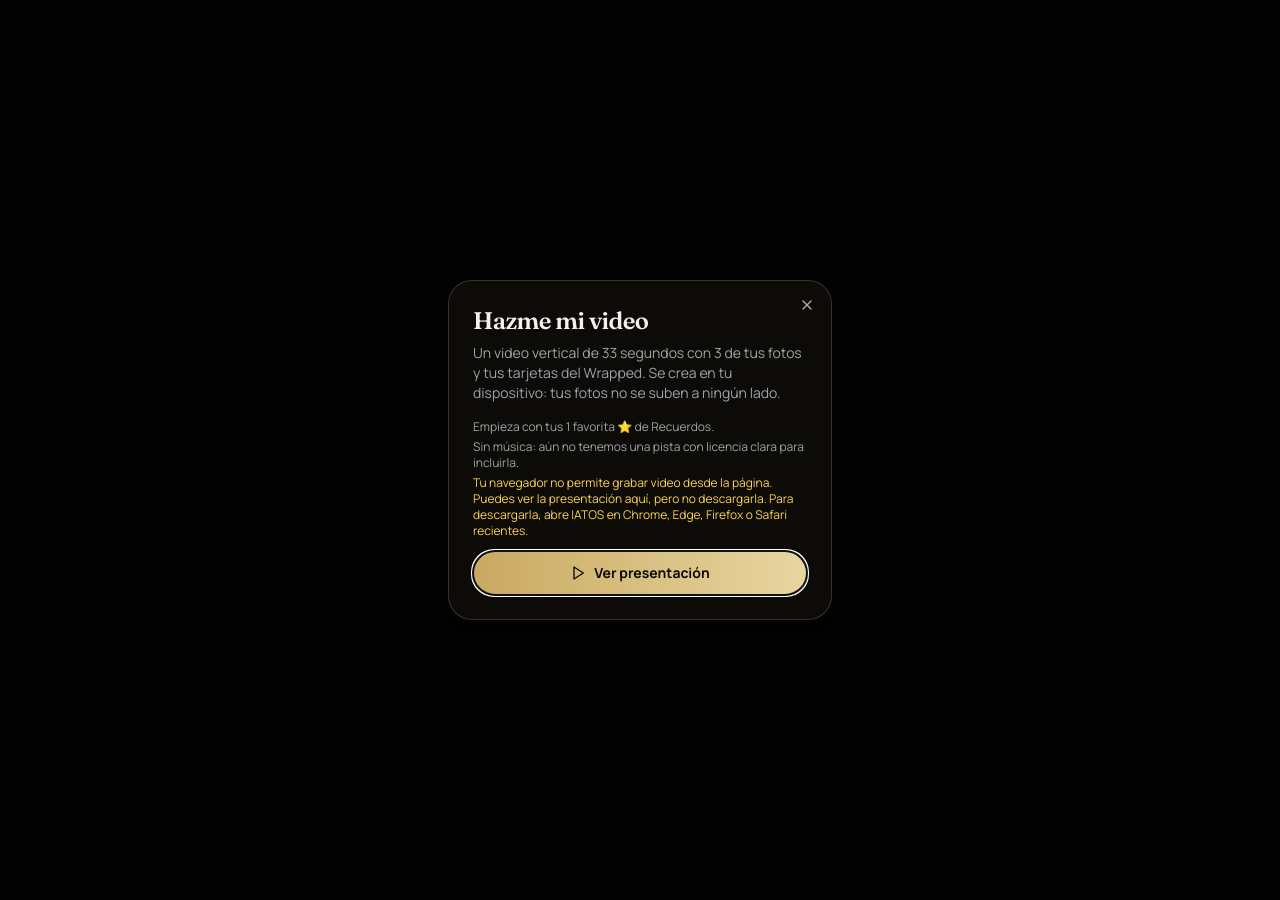
it: diálogo «Hazme mi video» › sin soporte de grabación: explica por qué y ofrece la presentación a pantalla completa
The image size is (1280, 900).
Expected: the list item "no permite grabar video desde la página. Puedes ver la presentación aquí, pero no descargarla" is shown, [473,475,807,539]
Expected: the list item "Sin música" is shown, [473,438,804,471]
Step 1. Click the button "Ver presentación" → (640, 573), box [473,551,807,595]
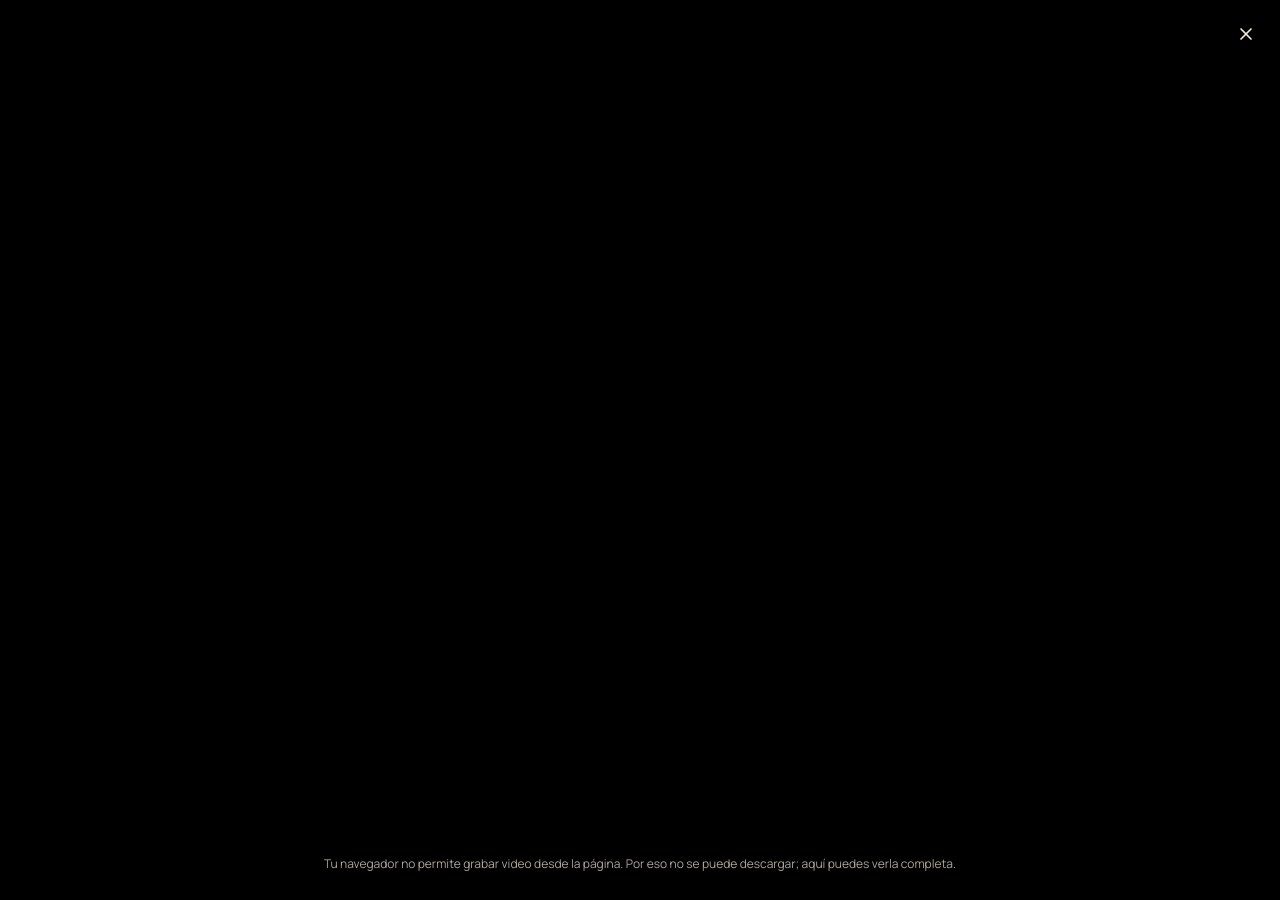
Result: the dialog with test id "wrapped-slideshow" shows "Por eso no se puede descargar" at [623,855,956,872]
